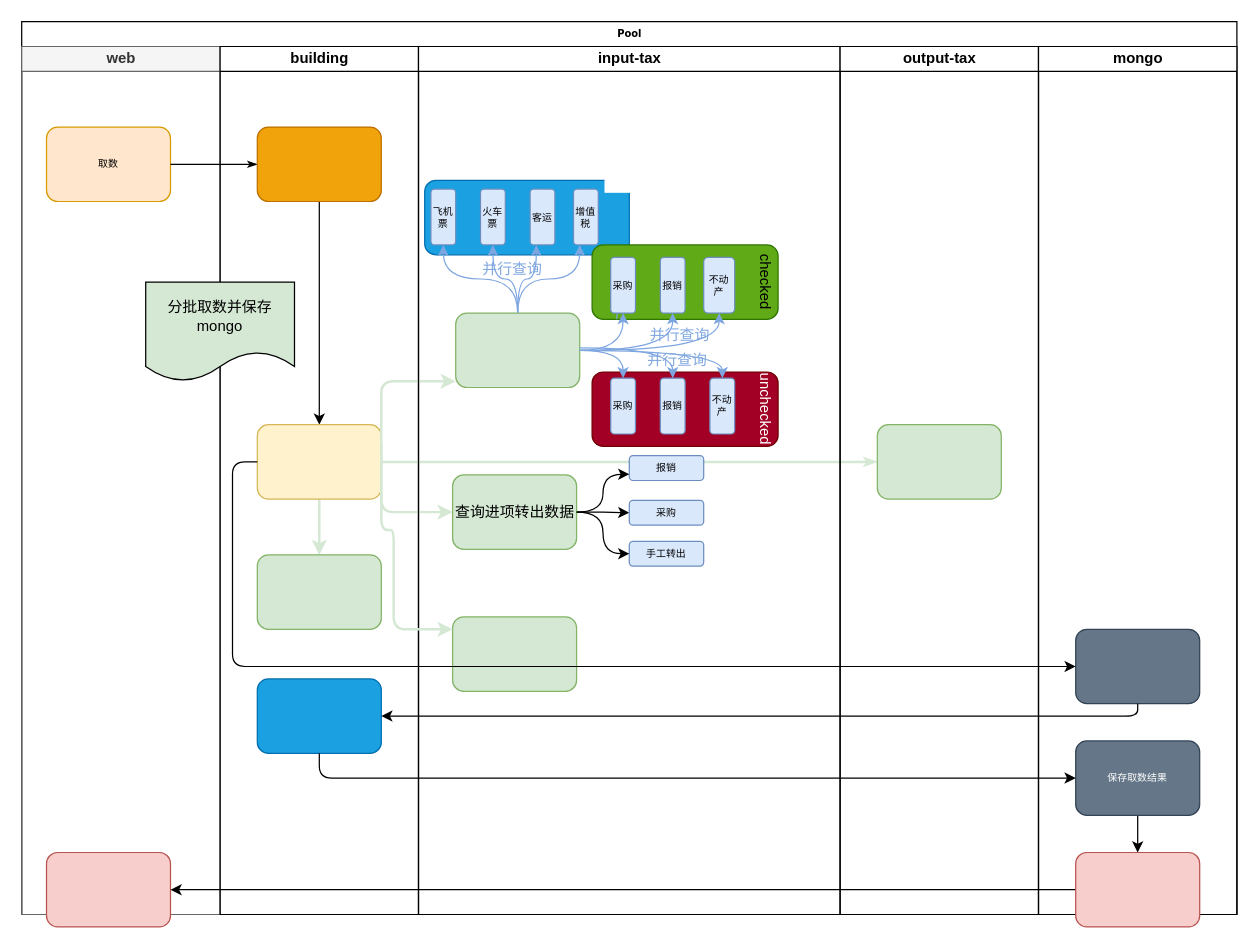
Some shapes in this 1259 by 949 pixel diagram are drawn without their labels. Each missing label, with the box of its shape:
从mongo中查询数据: (1074, 851, 1200, 927)
分批异步查询数据: (256, 423, 381, 499)
取数成功: (45, 851, 170, 927)
数据组装: (256, 678, 381, 753)
旅客运输: (604, 167, 678, 192)
查询分包数据: (451, 616, 577, 691)
查询期初留底: (1074, 628, 1200, 704)
查询进项数据: (454, 312, 580, 388)
查询销项数据: (876, 423, 1001, 499)
查询预交数据: (256, 554, 381, 629)
通过纳税人识别号查找组织信息: (256, 126, 381, 202)
